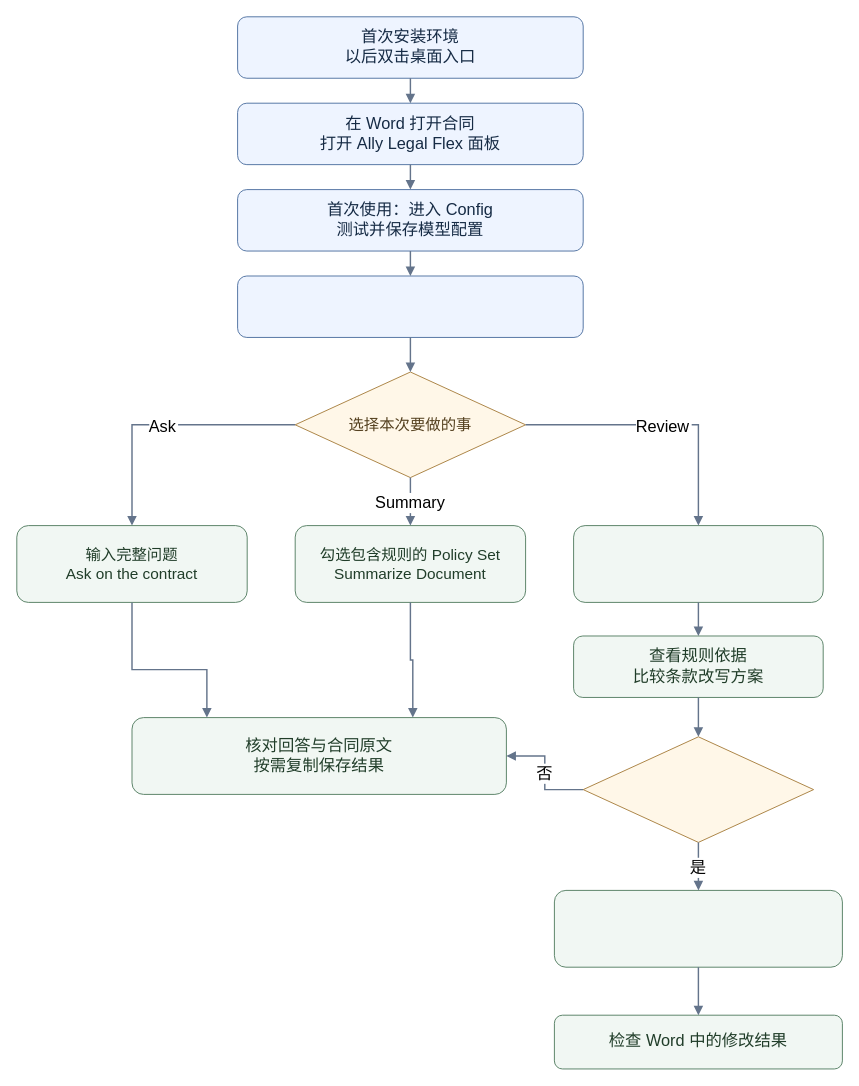
Image size: 859x1086. Some labels were removed from this diagram. The shapes that lost their labels are listed below. From the top down, each one's box as (x1, y1, x2, y2) in pixels, then its label:
(237, 275, 583, 337): General Settings 设置回答语言和审核立场
(573, 525, 823, 602): 勾选 Policy Set 并选中 Word 条款 点击 Review
(582, 736, 814, 842): 是否采用修改建议
(553, 889, 842, 967): 如需留痕，先开启 Word 修订 确认选区后点击 Mark-up
